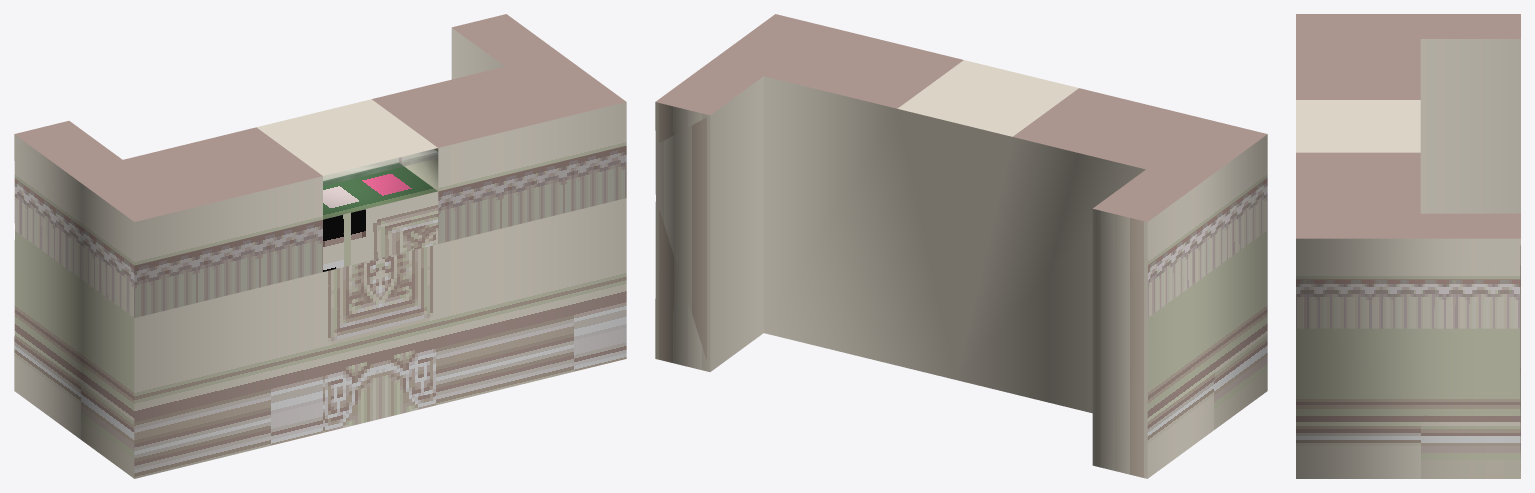
The picture shows the model from 3 angles, left to right: view 1: azimuth 30°, elevation 25°; view 2: azimuth 150°, elevation 25°; view 3: azimuth 270°, elevation 25°; orthographic projection. The views are drawn at different scales.
Visible parts, largest first — view 1: 3372kg_sh2_13; view 2: 3372kg_sh2_13; view 3: 3372kg_sh2_13.
Boxes of the visible parts, <box> form: 3372kg_sh2_13: <box>14,14,626,478</box>; 3372kg_sh2_13: <box>655,14,1267,478</box>; 3372kg_sh2_13: <box>1296,14,1520,478</box>.
Bounding box in the file's own units: 1.88 × 0.9375 × 0.7952.
4 materials, 4 textured.
